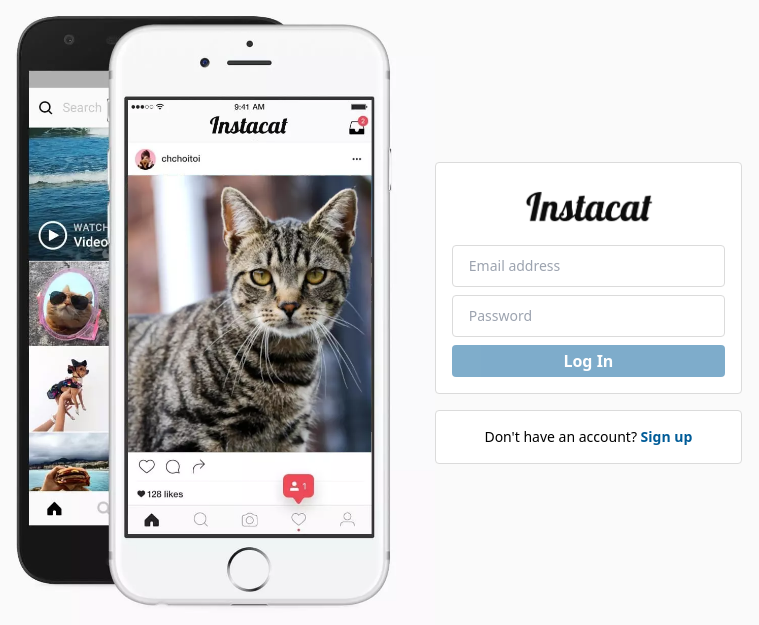
<Login /> › renders the login page with a form submission and fails to login the user
The width and height of the screenshot is (759, 625).
In the field with placeholder "Email address": (588, 266) [452,245,725,287], type "jake.com"
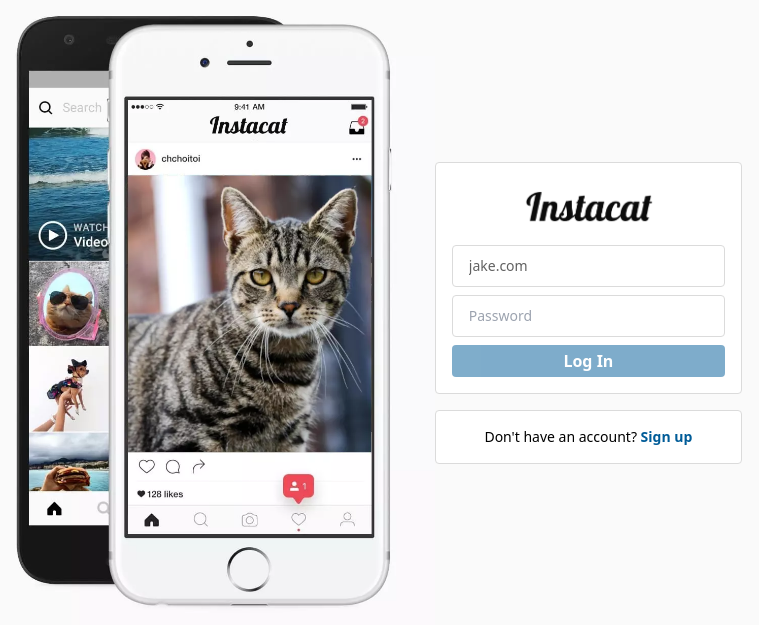
In the password field with placeholder "Password": (588, 316) [452,295,725,337], type "testpassword"
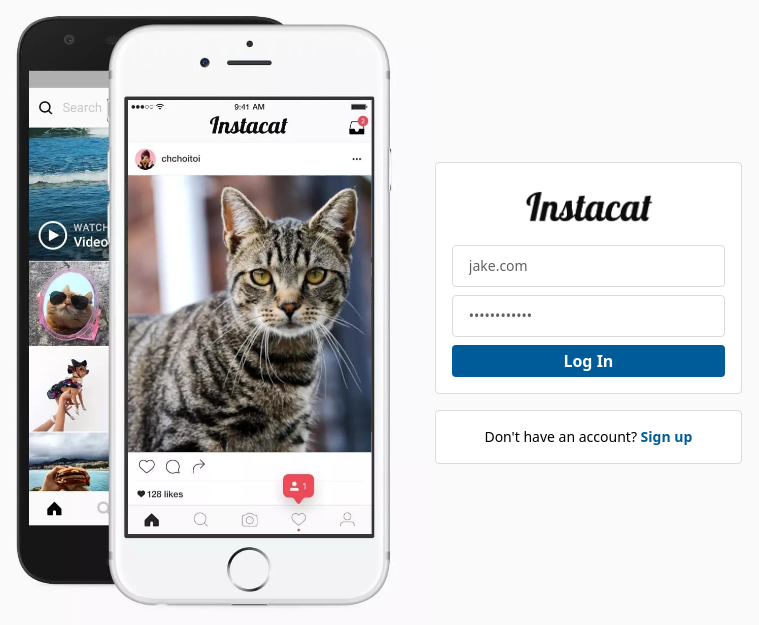
Submit the form with test id "login", box [452,245,725,377]
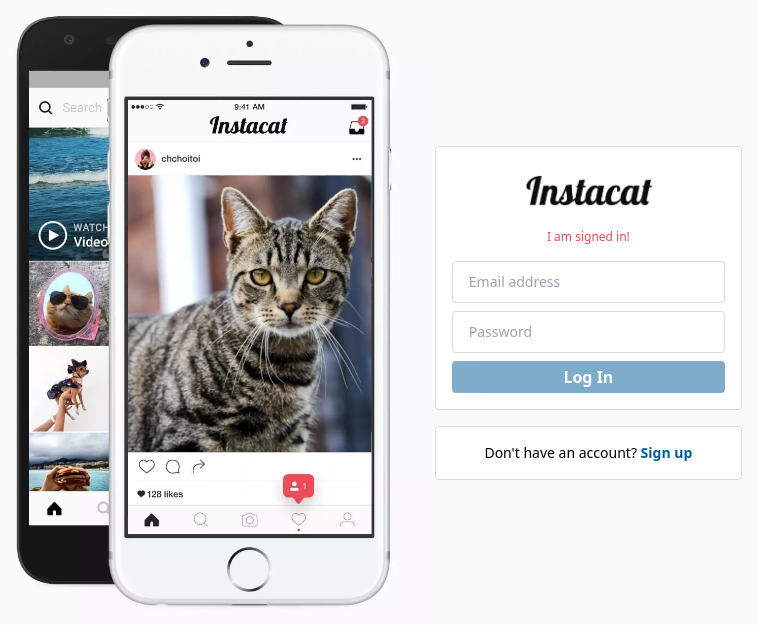
Result: the field with placeholder "Email address" is empty at [452,261,725,303]
Result: the password field with placeholder "Password" is empty at [452,311,725,353]
Result: the text "I am signed in!" is shown at [547,229,630,245]
